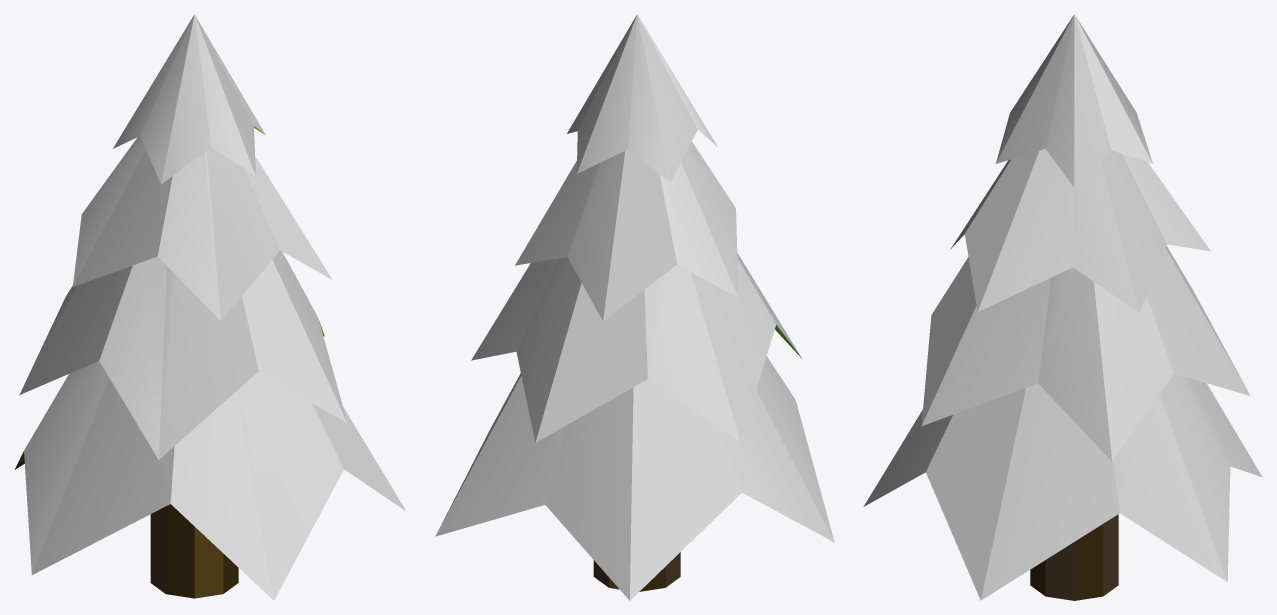
File: tree5.fbx
3 views of the same model, side by side, from view 1: azimuth 30°, elevation 25°; view 2: azimuth 150°, elevation 25°; view 3: azimuth 270°, elevation 25° (orthographic).
Parts seen in each view (by area): view 1: pPyramid5; view 2: pPyramid5; view 3: pPyramid5.
Boxes of the visible parts, left/top/right/bottom form: pPyramid5: left=14, top=14, right=405, bottom=600; pPyramid5: left=435, top=14, right=834, bottom=600; pPyramid5: left=863, top=14, right=1262, bottom=600.
Size of the model in its own units: 22.42 by 34.97 by 22.3.
